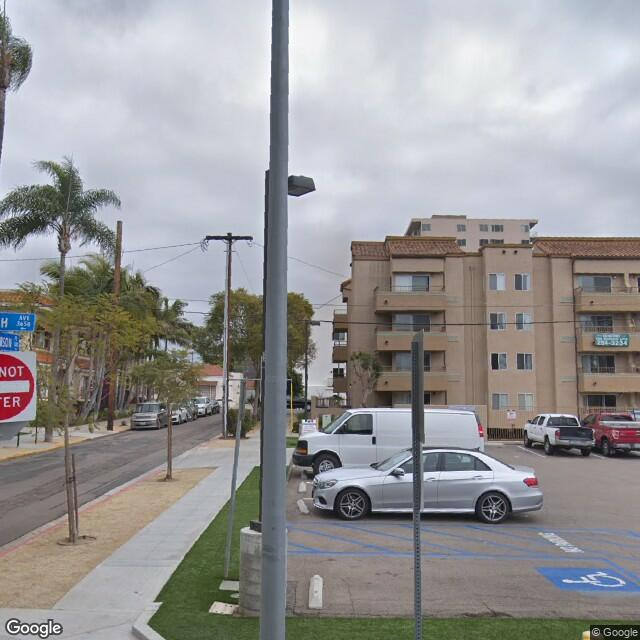window: (490, 349, 509, 376), (411, 314, 432, 332), (515, 273, 532, 293), (411, 276, 427, 291)
